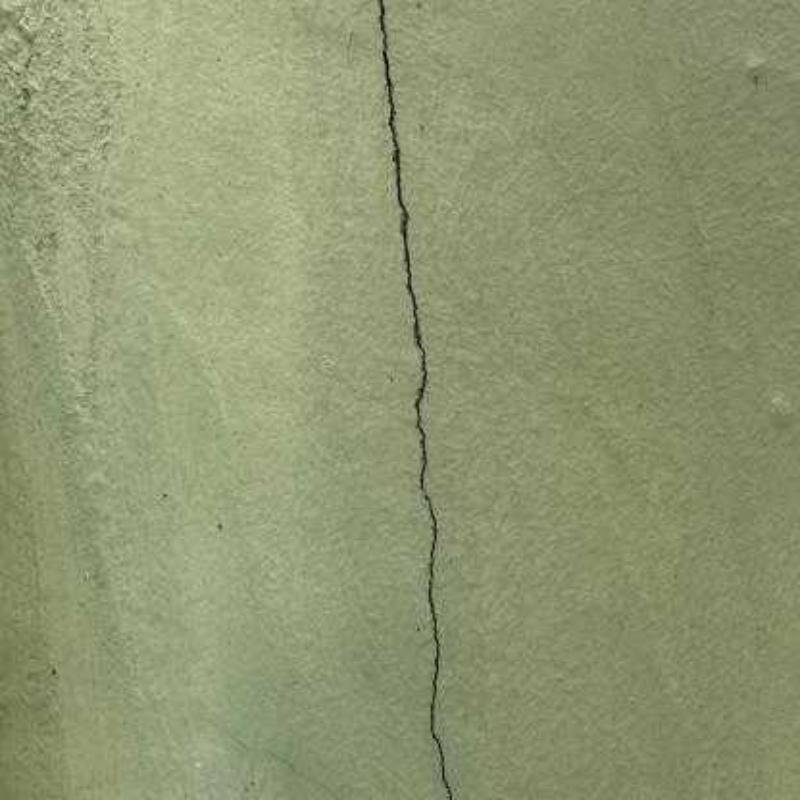pothole: (376, 0, 453, 799)
